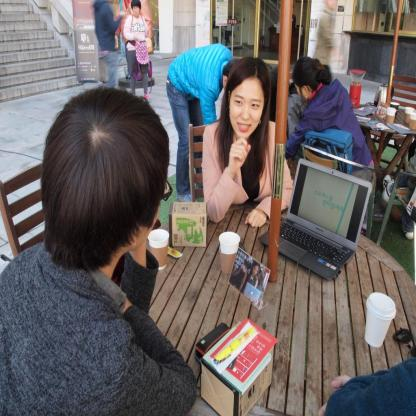board: (273, 159, 371, 276), (364, 293, 396, 349), (219, 229, 242, 275), (148, 228, 168, 274), (243, 282, 260, 304), (403, 106, 414, 125), (386, 108, 397, 126), (390, 100, 399, 118), (409, 111, 416, 132)
